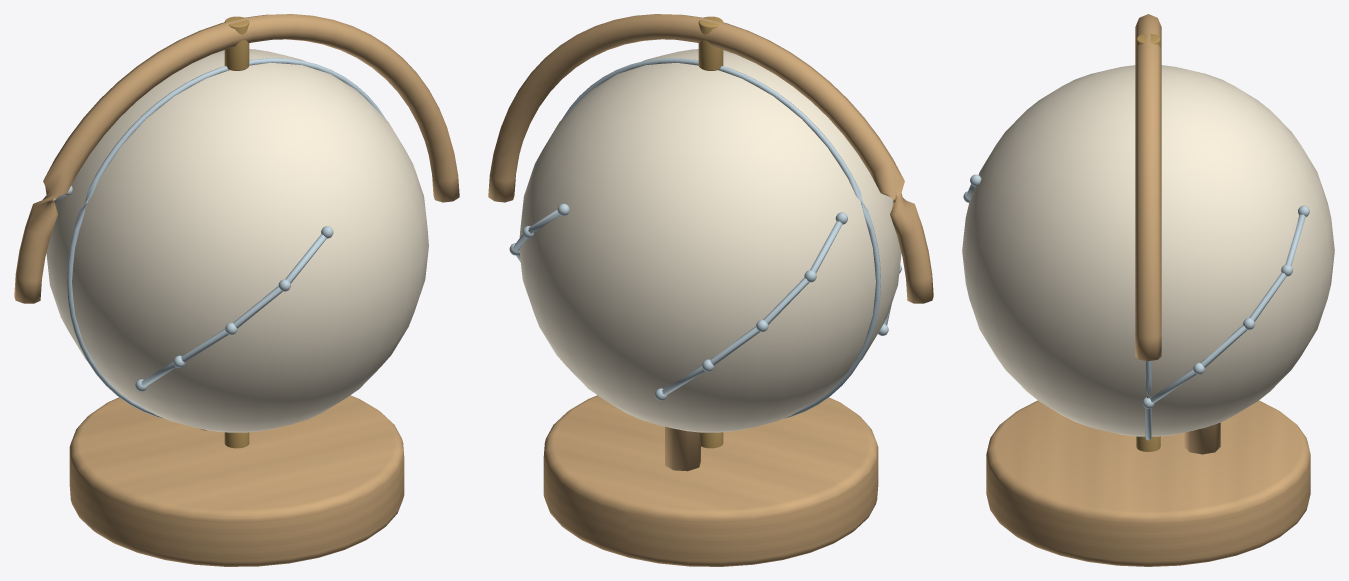
File: gift-17.07dc79c5eef6.glb
3 renders of one model, left to right at view 1: azimuth 30°, elevation 25°; view 2: azimuth 150°, elevation 25°; view 3: azimuth 270°, elevation 25°, orthographic. The views are drawn at different scales.
Visible parts, largest first — view 1: Matte_paper_globe, PART_GIFT_17_ROOT_MAT_honey_wood, PART_PIVOT_globe_MAT_blue_paper, PART_GIFT_17_ROOT_MAT_soft_brass; view 2: Matte_paper_globe, PART_GIFT_17_ROOT_MAT_honey_wood, PART_PIVOT_globe_MAT_blue_paper, PART_GIFT_17_ROOT_MAT_soft_brass; view 3: Matte_paper_globe, PART_GIFT_17_ROOT_MAT_honey_wood, PART_PIVOT_globe_MAT_blue_paper, PART_GIFT_17_ROOT_MAT_soft_brass.
Part boxes in pixels (x1=…): Matte_paper_globe: x1=46, y1=49, x2=428, y2=432; PART_GIFT_17_ROOT_MAT_honey_wood: x1=14, y1=14, x2=459, y2=566; PART_PIVOT_globe_MAT_blue_paper: x1=54, y1=58, x2=385, y2=418; PART_GIFT_17_ROOT_MAT_soft_brass: x1=224, y1=16, x2=249, y2=448; Matte_paper_globe: x1=519, y1=49, x2=901, y2=432; PART_GIFT_17_ROOT_MAT_honey_wood: x1=488, y1=14, x2=933, y2=566; PART_PIVOT_globe_MAT_blue_paper: x1=509, y1=58, x2=901, y2=418; PART_GIFT_17_ROOT_MAT_soft_brass: x1=698, y1=16, x2=723, y2=448; Matte_paper_globe: x1=962, y1=65, x2=1334, y2=436; PART_GIFT_17_ROOT_MAT_honey_wood: x1=986, y1=14, x2=1310, y2=566; PART_PIVOT_globe_MAT_blue_paper: x1=963, y1=174, x2=1309, y2=440; PART_GIFT_17_ROOT_MAT_soft_brass: x1=1136, y1=34, x2=1160, y2=451.
Size of the model in its own units: 0.0824 by 0.0851 by 0.062.
4 materials, 1 textured.
